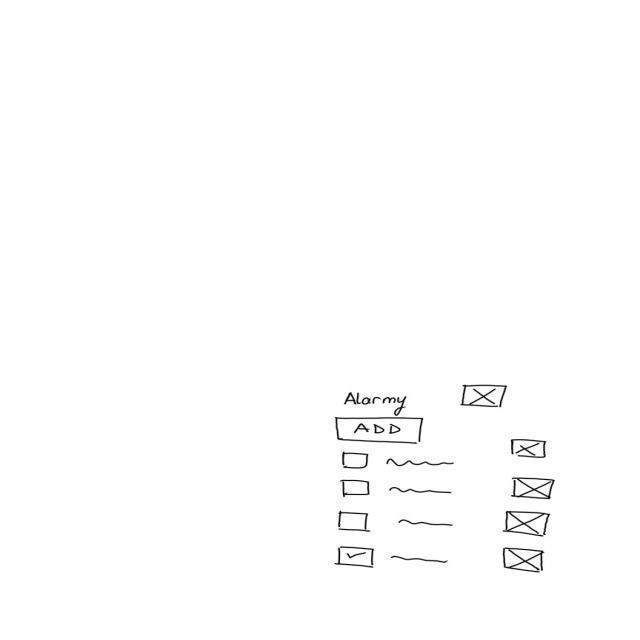button: (337, 418, 427, 446)
checkbox: (337, 512, 455, 536), (337, 547, 451, 571), (342, 480, 454, 500), (342, 453, 457, 471)
image: (505, 511, 553, 539), (460, 386, 509, 410), (504, 548, 547, 574), (512, 477, 556, 501), (510, 439, 548, 461)
label: (343, 392, 409, 418)
